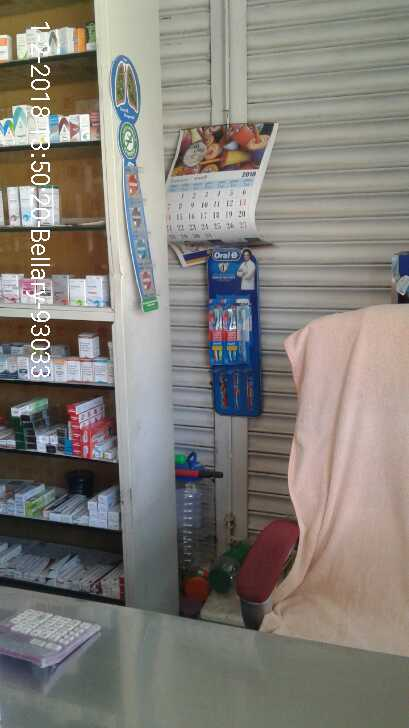oralb: (204, 303, 251, 365)
